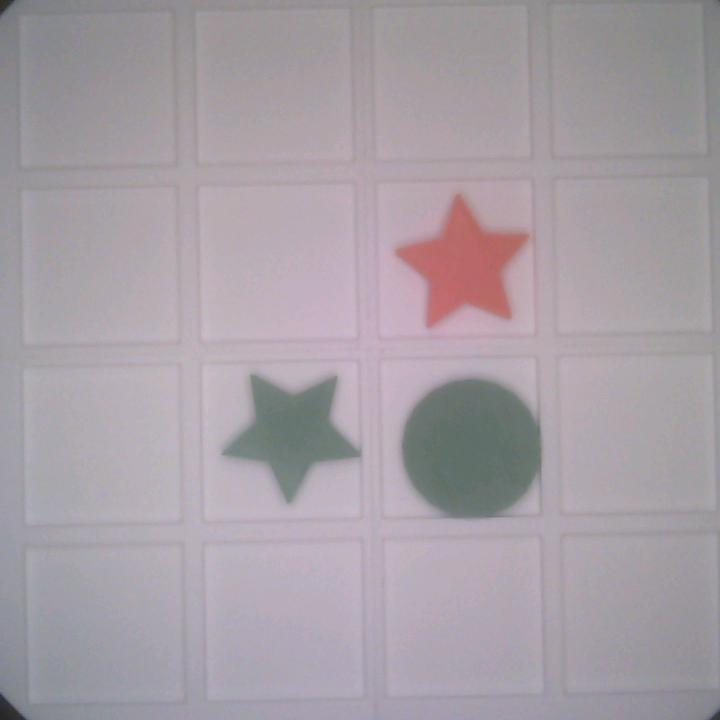Green circle: (401, 379, 542, 520)
Green star: (220, 371, 364, 508)
Orange star: (394, 192, 531, 337)
